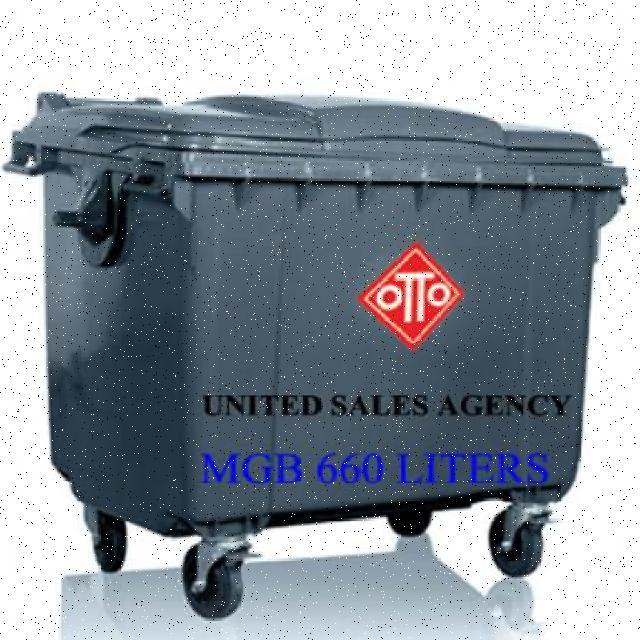garbage container: (2, 84, 636, 629)
